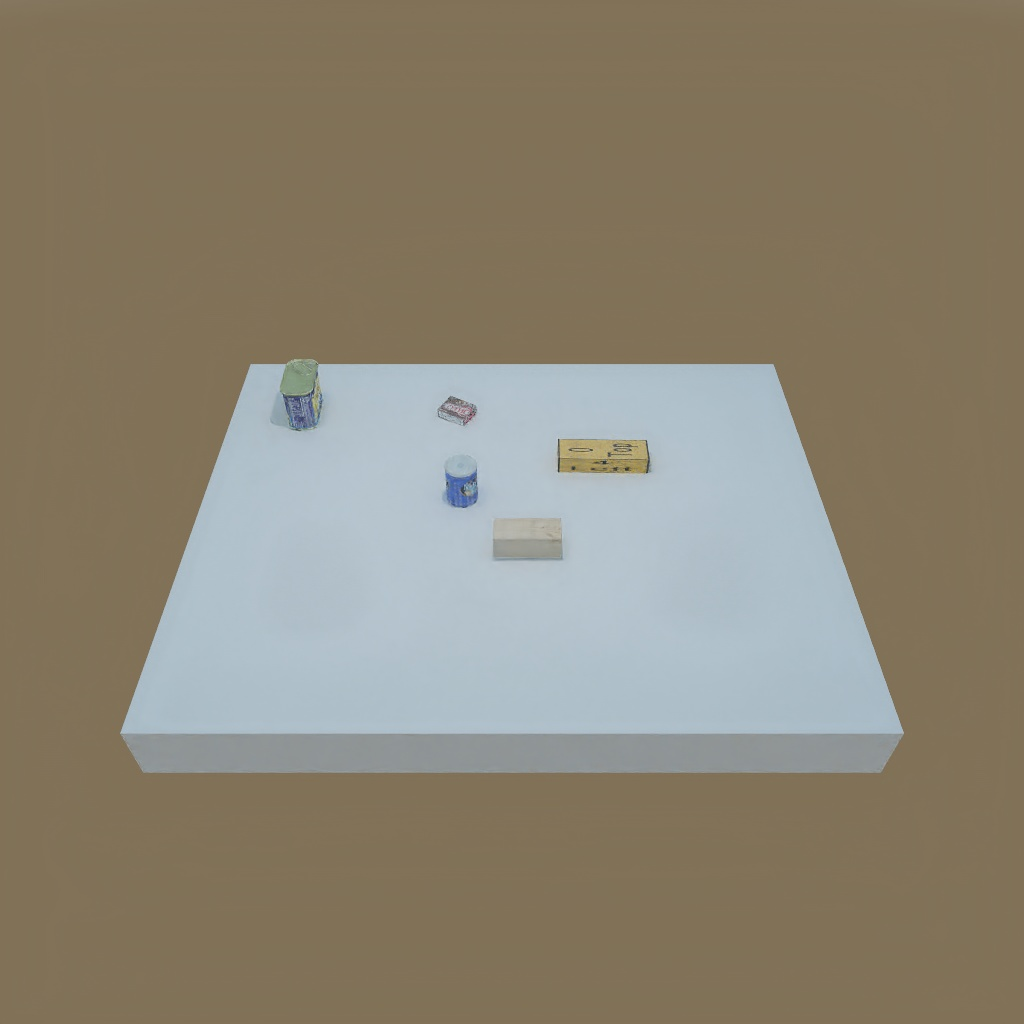jenga: (552, 435, 650, 477)
master_chef_can: (440, 450, 481, 510)
potted_meat_can: (279, 357, 323, 428)
pudding_box: (435, 396, 482, 425)
wood_block: (487, 514, 566, 565)
